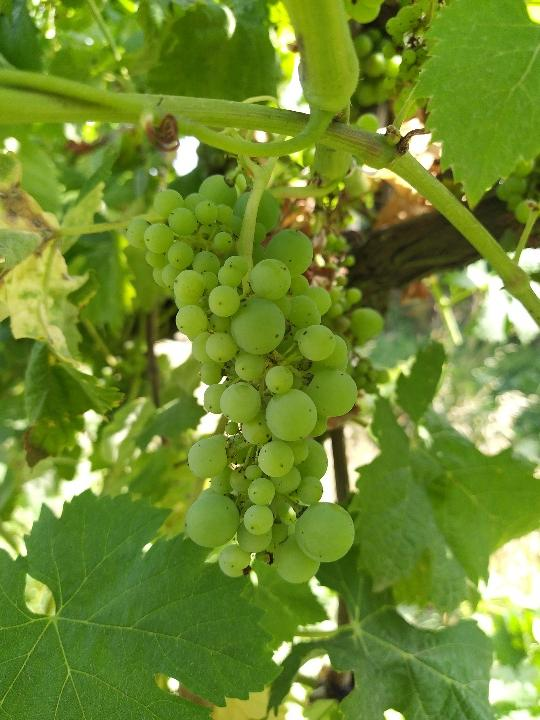grape: (122, 173, 363, 587)
